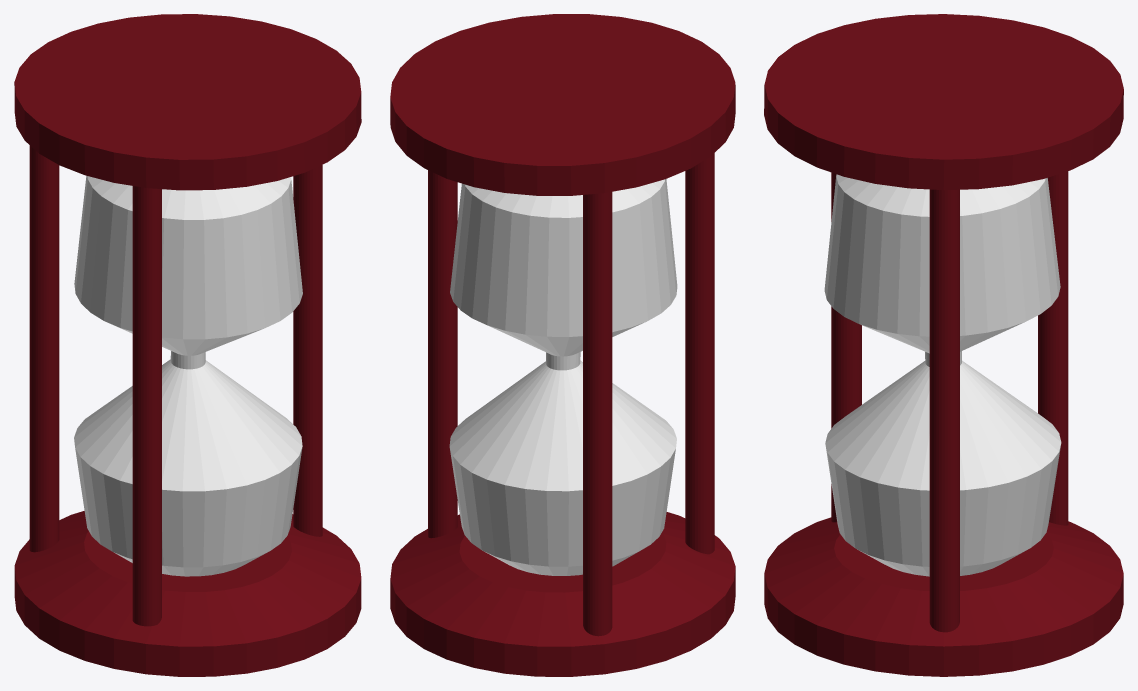
File: HOURGLASS.fbx
The picture shows the model from 3 angles, left to right: view 1: azimuth 30°, elevation 25°; view 2: azimuth 150°, elevation 25°; view 3: azimuth 270°, elevation 25°; orthographic projection.
Visible parts, largest first — view 1: Cylinder, Cylinder.001; view 2: Cylinder, Cylinder.001; view 3: Cylinder, Cylinder.001.
Boxes of the visible parts, x1=… form: Cylinder: x1=14, y1=14, x2=361, y2=676; Cylinder.001: x1=74, y1=175, x2=302, y2=576; Cylinder: x1=390, y1=14, x2=735, y2=676; Cylinder.001: x1=449, y1=179, x2=677, y2=575; Cylinder: x1=764, y1=14, x2=1123, y2=676; Cylinder.001: x1=824, y1=174, x2=1061, y2=576.
Bounding box in the file's own units: 259 × 430 × 270.
